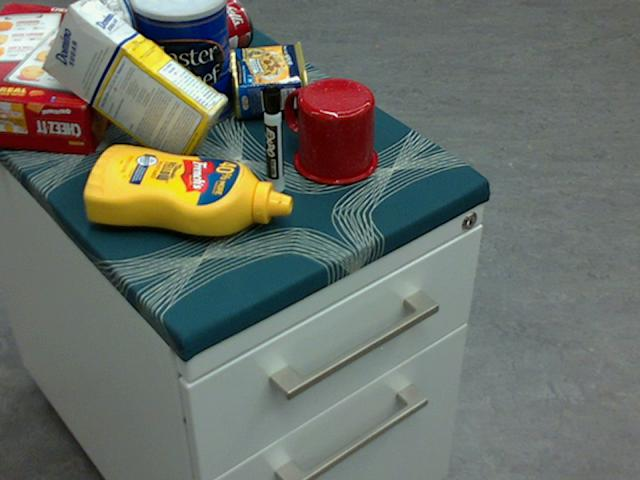cracker_box: (0, 5, 142, 156)
gelatin_box: (136, 0, 218, 43)
large_marker: (262, 83, 282, 191)
master_chef_can: (130, 0, 231, 130)
mug: (286, 77, 376, 184)
mustard_bottle: (83, 146, 292, 235)
potted_meat_can: (229, 40, 309, 117)
sugar_box: (43, 0, 230, 169)
tomato_soup_can: (156, 0, 253, 75)
tuna_fish_can: (77, 0, 137, 72)
